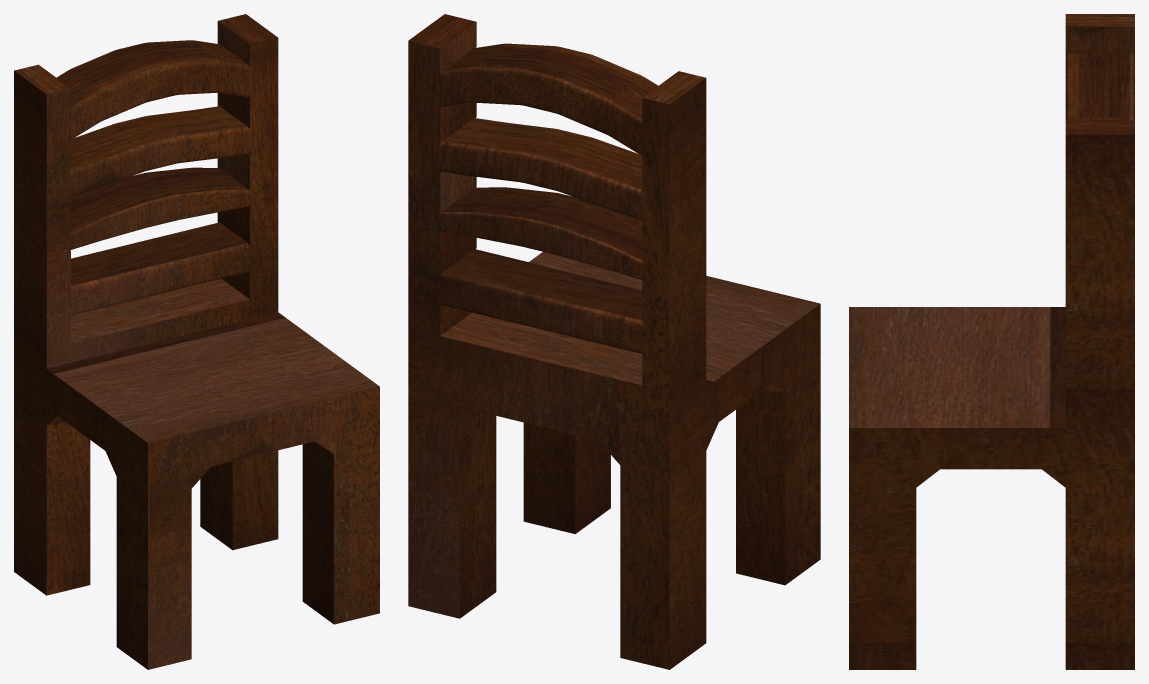
Rendered from Wooden_Chair.fbx.
3 views of the same model, side by side, from view 1: azimuth 30°, elevation 25°; view 2: azimuth 150°, elevation 25°; view 3: azimuth 270°, elevation 25° (orthographic). The views are drawn at different scales.
Visible parts, largest first — view 1: chair_wooden; view 2: chair_wooden; view 3: chair_wooden.
Part boxes in pixels (box(x1,y1,x2,y2)): chair_wooden: box(14, 14, 379, 669); chair_wooden: box(408, 14, 820, 669); chair_wooden: box(849, 14, 1134, 669).
Size of the model in its own units: 0.7228 by 1.49 by 0.7228.
Materials: 1 (1 with a texture image).
